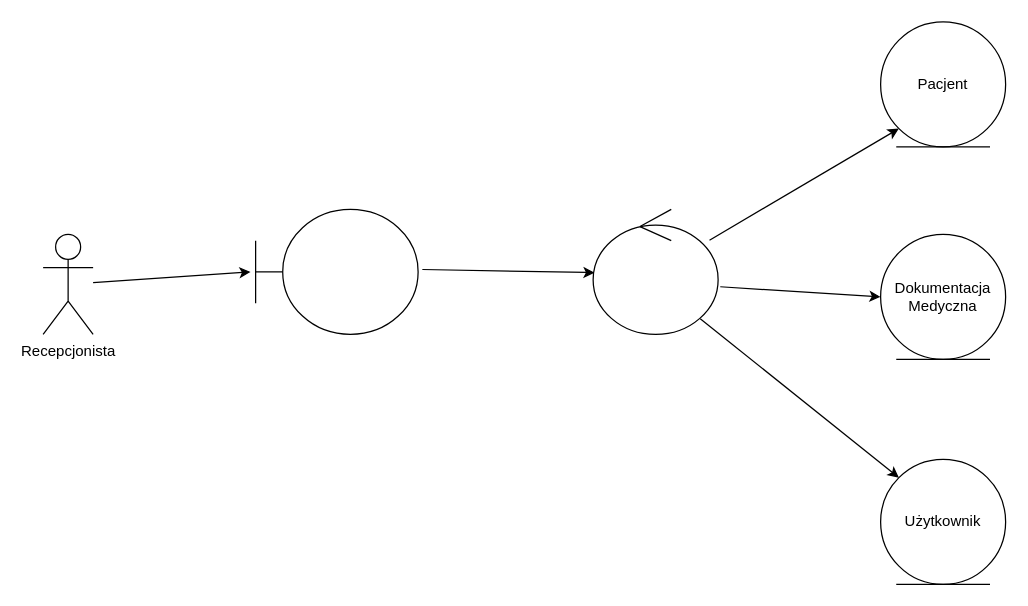
This 1028x606 diagram has some shape labels left out. The centre of each missing label's shape, as x and y in pixels:
"Formularz Rejestracji" goes at (336,271).
"Rejestracja Pacjenta" goes at (655,271).
